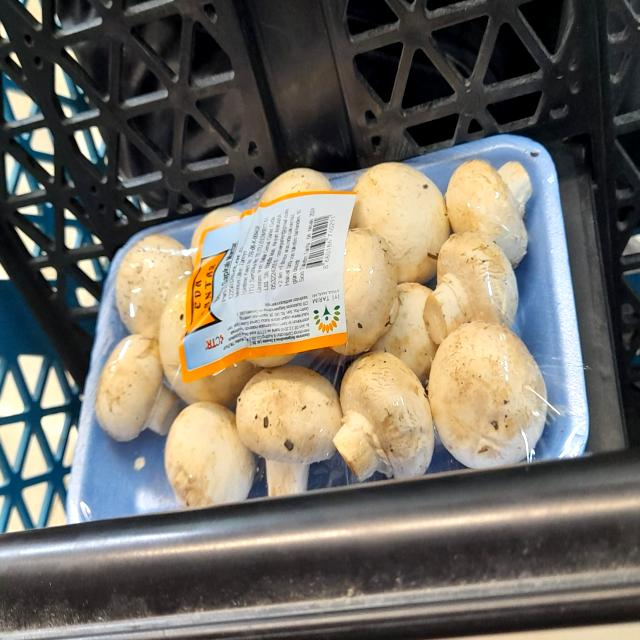mushroom: (430, 316, 551, 474), (230, 356, 346, 501), (331, 350, 437, 501), (417, 223, 533, 346), (155, 392, 261, 520), (90, 330, 182, 450), (448, 147, 538, 264)
